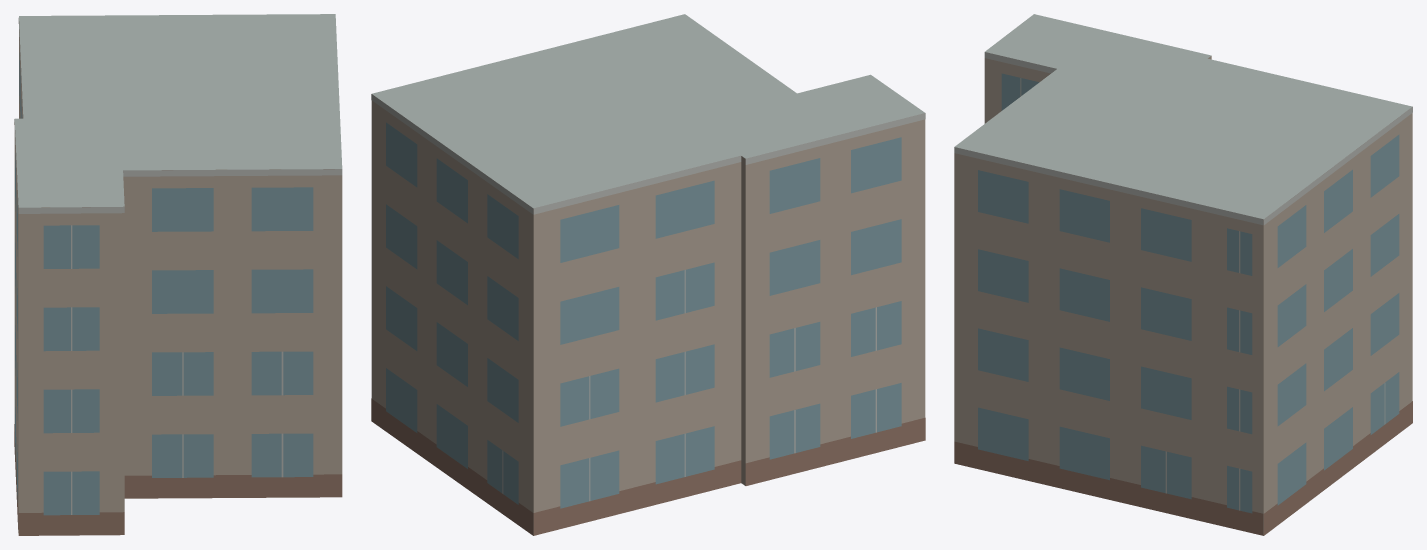
File: survey-upis-32912563.glb
3 renders of one model, left to right at view 1: azimuth 30°, elevation 25°; view 2: azimuth 150°, elevation 25°; view 3: azimuth 270°, elevation 25°, orthographic. The views are drawn at different scales.
Parts seen in each view (by area): view 1: survey-upis-32912563.tmp; view 2: survey-upis-32912563.tmp; view 3: survey-upis-32912563.tmp.
Boxes of the visible parts, box(x1,y1,x2,y2) form: survey-upis-32912563.tmp: box(14, 14, 342, 535); survey-upis-32912563.tmp: box(371, 14, 925, 535); survey-upis-32912563.tmp: box(954, 14, 1412, 535).
Bounding box in the file's own units: 17.53 × 12.6 × 16.54.
